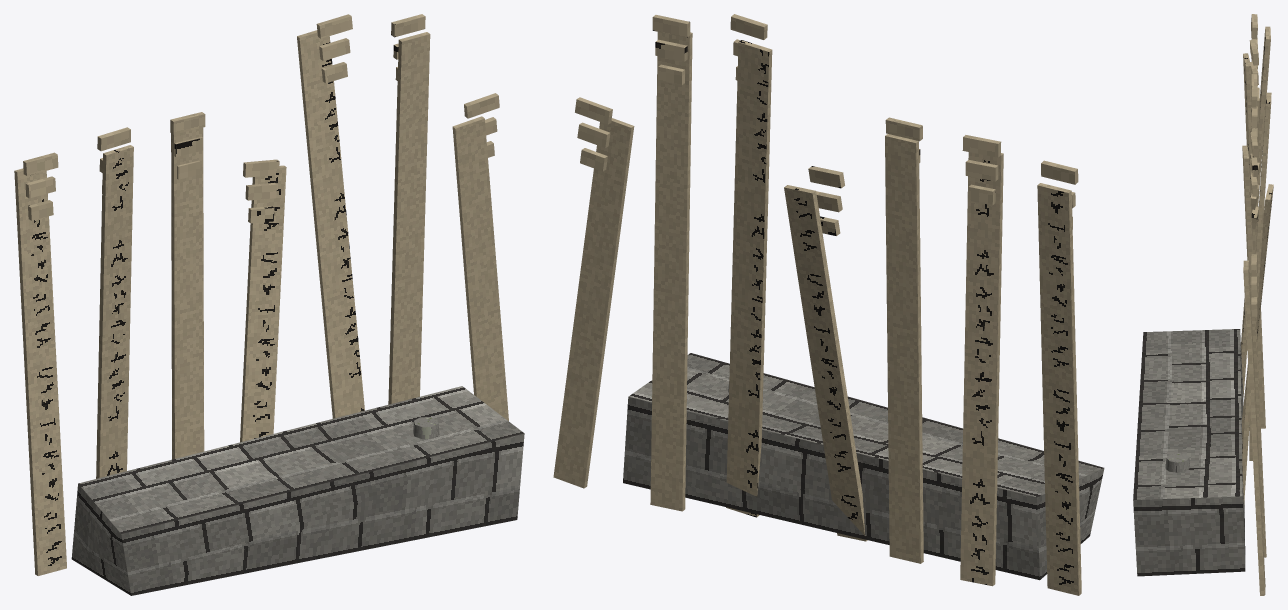
The model's file is prop_sotoba.glb.
3 views of the same model, side by side, from view 1: azimuth 30°, elevation 25°; view 2: azimuth 150°, elevation 25°; view 3: azimuth 270°, elevation 25° (orthographic). The views are drawn at different scales.
Parts seen in each view (by area): view 1: prop_sotoba; view 2: prop_sotoba; view 3: prop_sotoba.
Boxes of the visible parts, x1,y1,x2,y2 form: prop_sotoba: [14, 14, 524, 595]; prop_sotoba: [553, 14, 1104, 595]; prop_sotoba: [1133, 14, 1273, 595].
Bounding box in the file's own units: 2 × 1.88 × 0.5514.
Materials: 3 (3 with a texture image).
